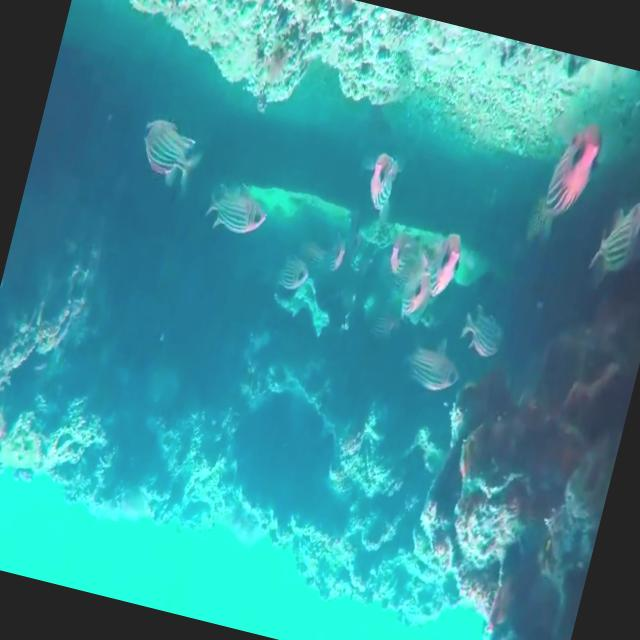Asker Baligi: (124, 102, 206, 190), (388, 322, 464, 410), (199, 174, 272, 242), (359, 133, 404, 213), (268, 244, 316, 296)
